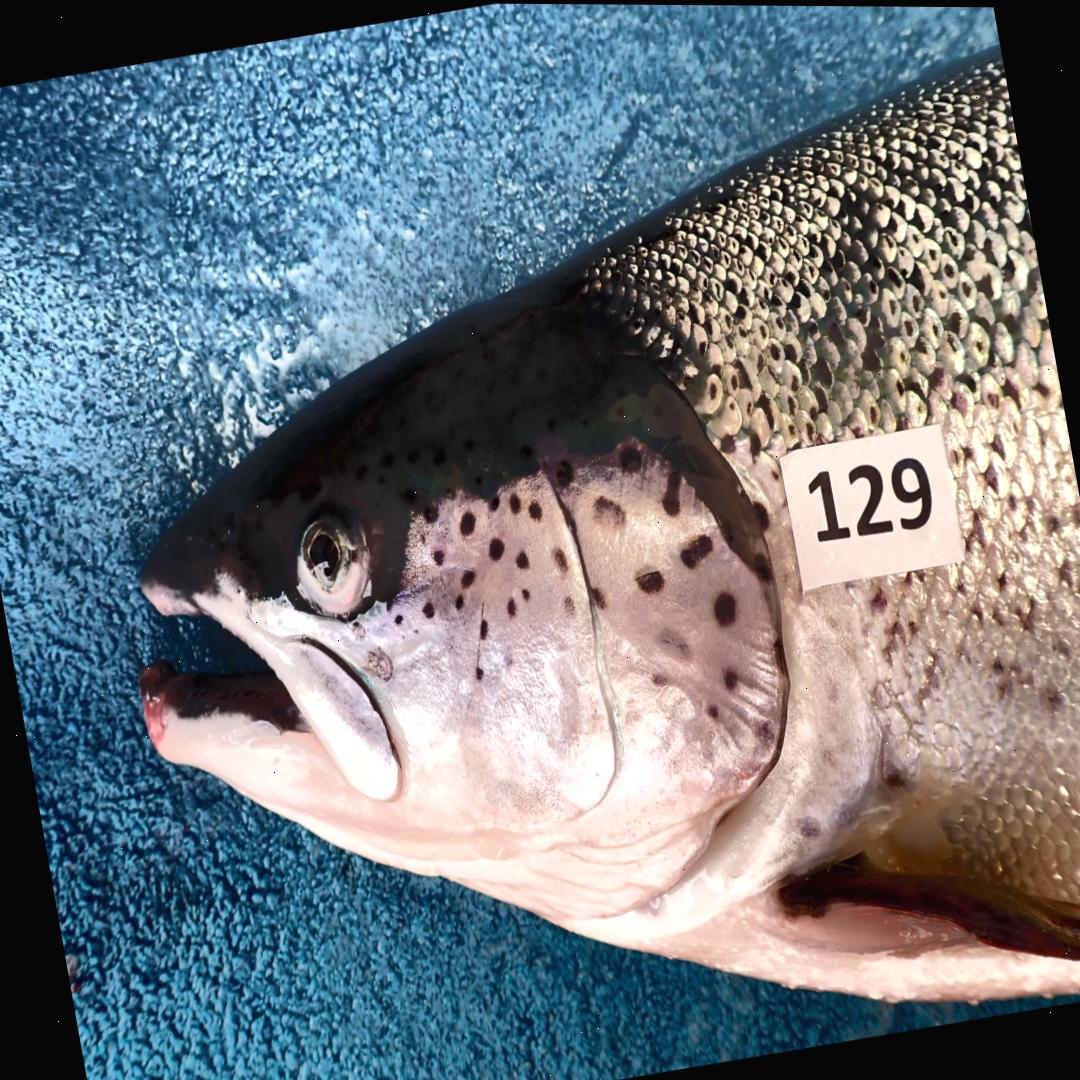spot: (655, 627, 695, 658), (679, 533, 713, 567), (593, 495, 626, 525), (662, 469, 682, 515), (636, 563, 664, 594), (713, 589, 736, 625), (619, 445, 642, 471), (459, 510, 476, 536), (488, 536, 505, 560), (557, 463, 574, 487), (422, 499, 438, 523), (553, 546, 568, 571), (722, 666, 738, 689), (508, 489, 522, 513), (591, 586, 605, 608), (758, 721, 772, 743), (515, 548, 529, 568), (461, 570, 475, 588), (527, 501, 541, 519), (563, 594, 575, 615), (422, 601, 436, 617), (479, 618, 488, 640), (652, 673, 667, 686), (434, 548, 445, 565), (506, 597, 515, 616), (490, 495, 500, 509), (707, 702, 717, 716), (454, 594, 463, 609), (474, 666, 484, 679), (521, 587, 528, 600), (394, 613, 401, 624)
